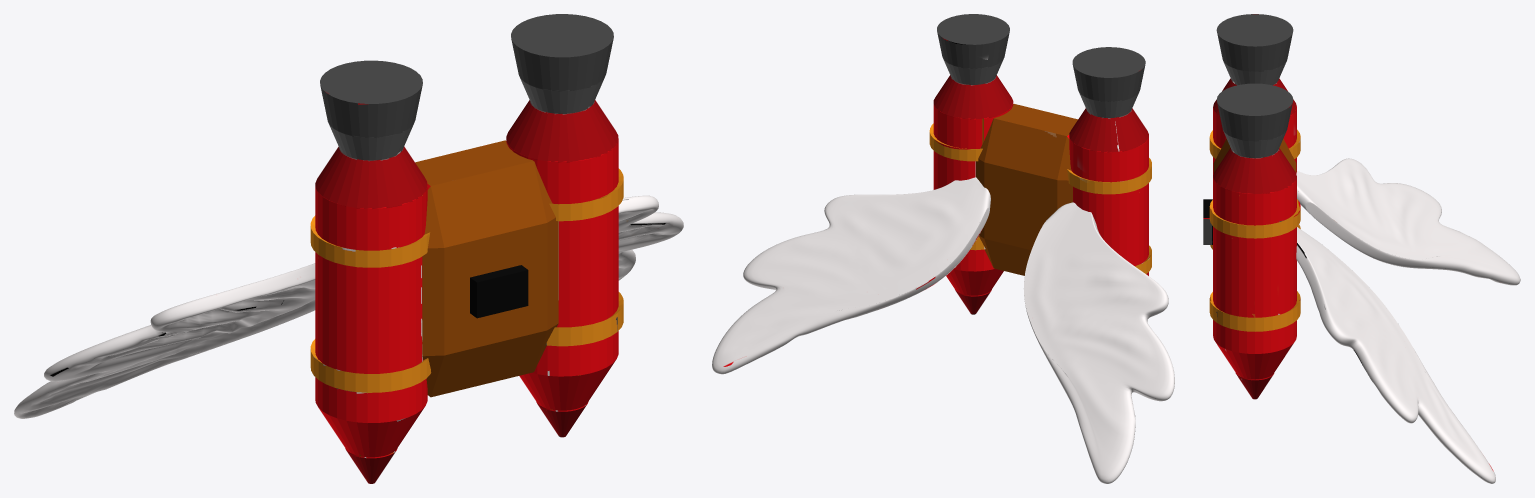
File: JetPackWings.fbx
3 renders of one model, left to right at view 1: azimuth 30°, elevation 25°; view 2: azimuth 150°, elevation 25°; view 3: azimuth 270°, elevation 25°, orthographic. The views are drawn at different scales.
Visible parts, largest first — view 1: Cube.002; view 2: Cube.002; view 3: Cube.002.
Boxes of the visible parts, x1,y1,x2,y2 form: Cube.002: (14, 14, 683, 483); Cube.002: (712, 14, 1174, 483); Cube.002: (1203, 14, 1520, 483).
Bounding box in the file's own units: 404 × 263 × 240.
